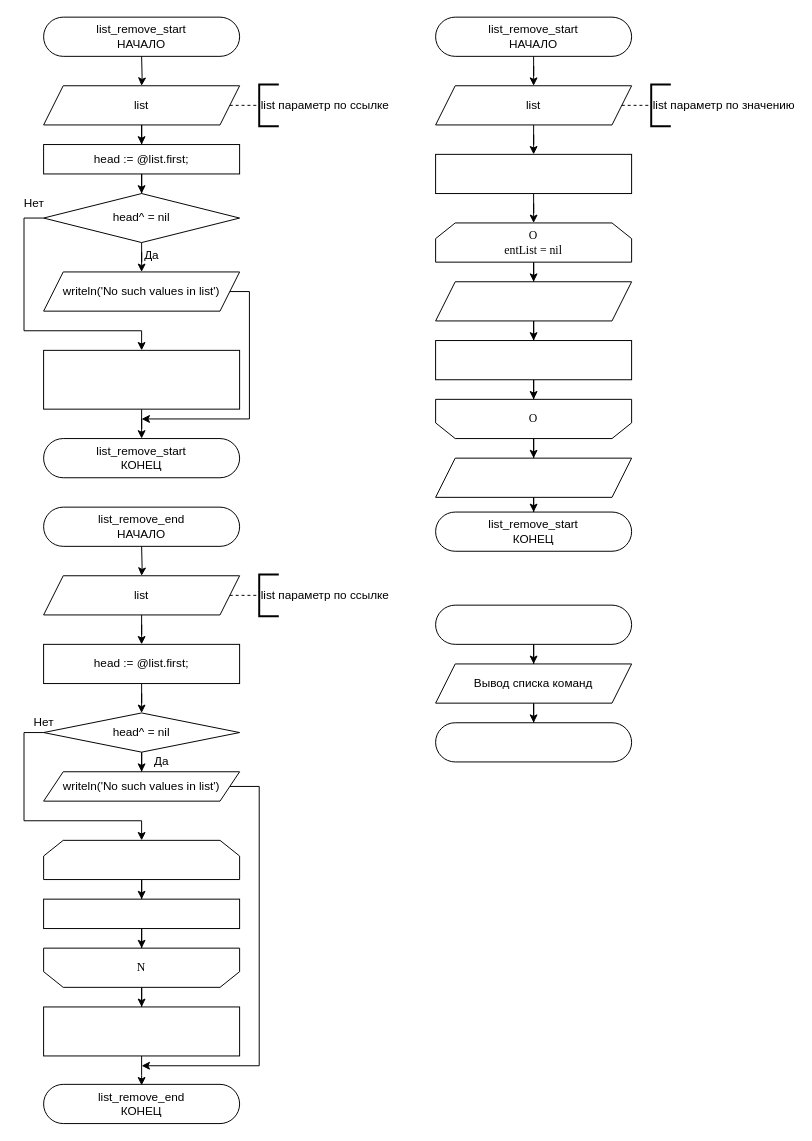
Image size: 812x1141. Some labels were removed from this diagram. Each missing label, with the box of its shape:
dispose(head^); head^ := nil;: (43, 1006, 240, 1056)
entList := (head^)^.next; dispose(head^); head^ := entList;: (43, 349, 240, 409)
entList := entList^.next;: (435, 340, 632, 380)
entList := list.first;: (435, 153, 632, 194)
head := @(head^)^.next;: (43, 898, 240, 929)
list_help КОНЕЦ: (435, 722, 632, 762)
list_help НАЧАЛО: (435, 604, 632, 644)
N (head^)^.next = nil: (43, 839, 240, 880)
write(entList^.value, ' ');: (435, 281, 632, 321)
writeln: (435, 457, 632, 497)
